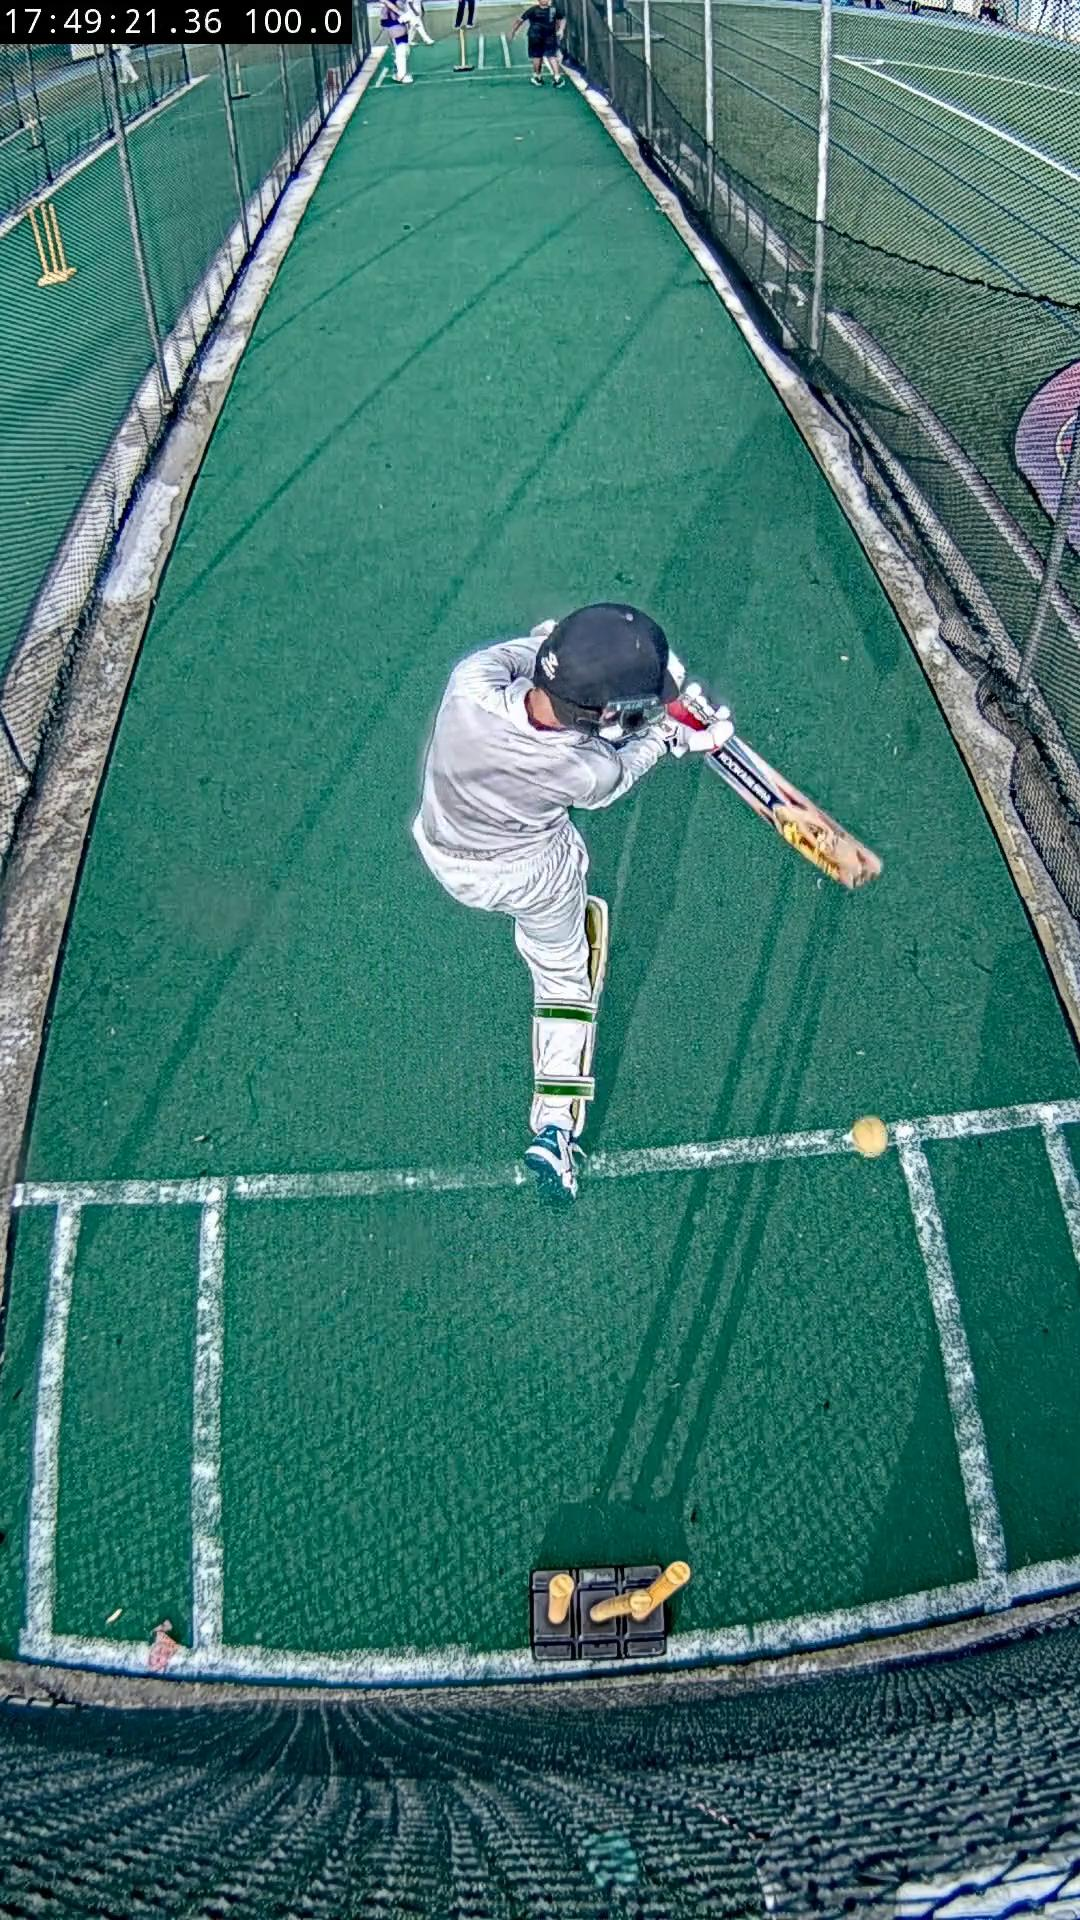ball: (852, 1117, 889, 1159)
bat: (705, 735, 877, 889)
gloves: (663, 683, 735, 757)
helmet: (533, 604, 675, 742)
pads: (585, 897, 612, 1007)
stumps: (529, 1564, 690, 1662)
